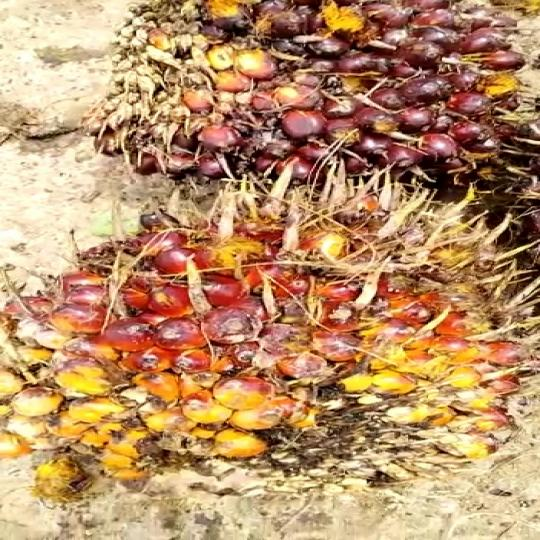masak: (0, 157, 540, 508), (76, 0, 538, 176)
